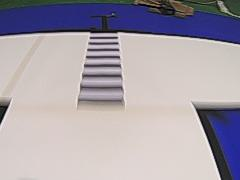CrossWalk: (72, 30, 128, 113)
